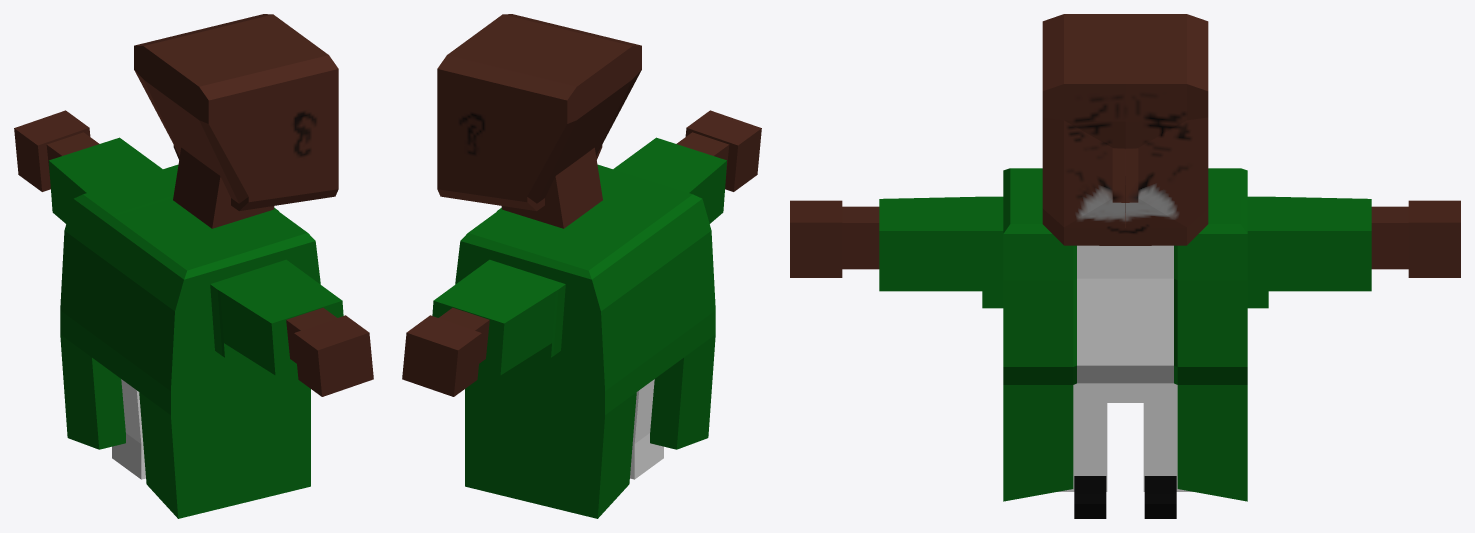
File: potifar.fbx
The picture shows the model from 3 angles, left to right: view 1: azimuth 30°, elevation 25°; view 2: azimuth 150°, elevation 25°; view 3: azimuth 270°, elevation 25°; orthographic projection. The views are drawn at different scales.
Visible parts, largest first — view 1: Cube.002; view 2: Cube.002; view 3: Cube.002.
Part boxes in pixels (<box>): Cube.002: <box>14,14,373,518</box>; Cube.002: <box>402,14,761,518</box>; Cube.002: <box>790,14,1460,518</box>.
Bounding box in the file's own units: 311 × 610 × 810.
Materials: 4 (1 with a texture image).
